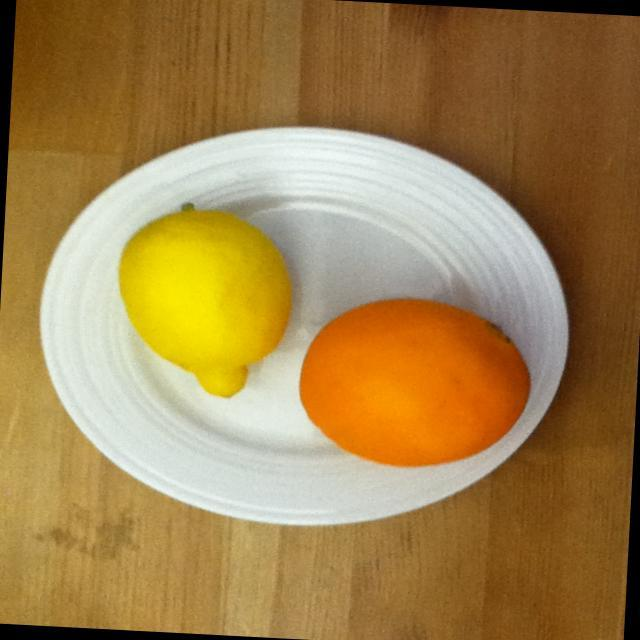Lemon: (97, 189, 312, 424)
Orange: (280, 282, 550, 487)
